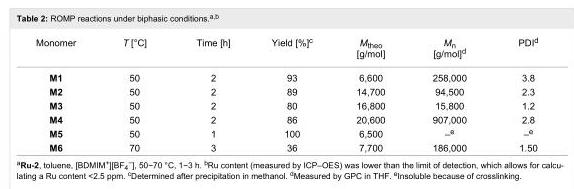table: (35, 35, 537, 152)
table column: (250, 35, 333, 152), (408, 35, 491, 152), (170, 35, 250, 152), (333, 35, 408, 152), (98, 35, 170, 152), (35, 35, 98, 152), (491, 35, 537, 152)
table row: (35, 35, 537, 65), (35, 65, 537, 84), (35, 125, 537, 140), (35, 84, 537, 98), (35, 98, 537, 112), (35, 112, 537, 125), (35, 140, 537, 152)
